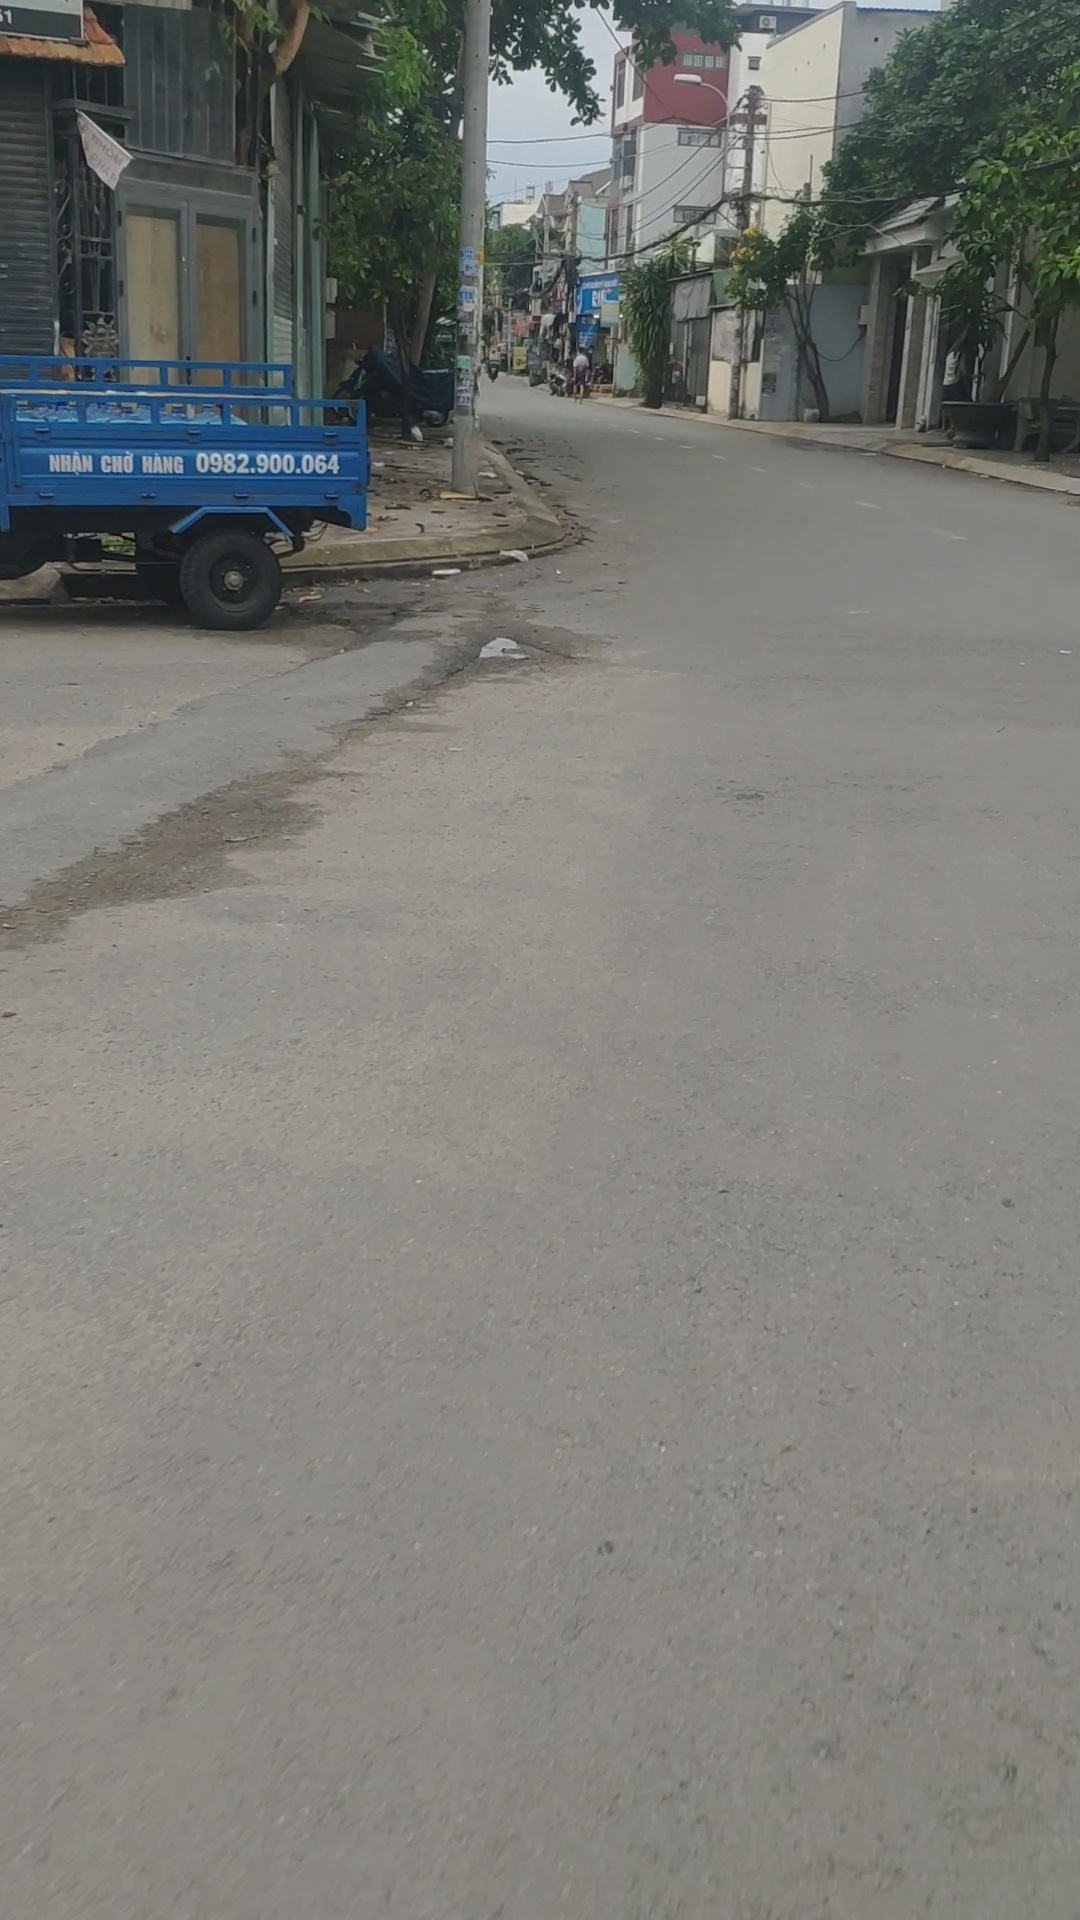hole: (467, 622, 567, 666)
